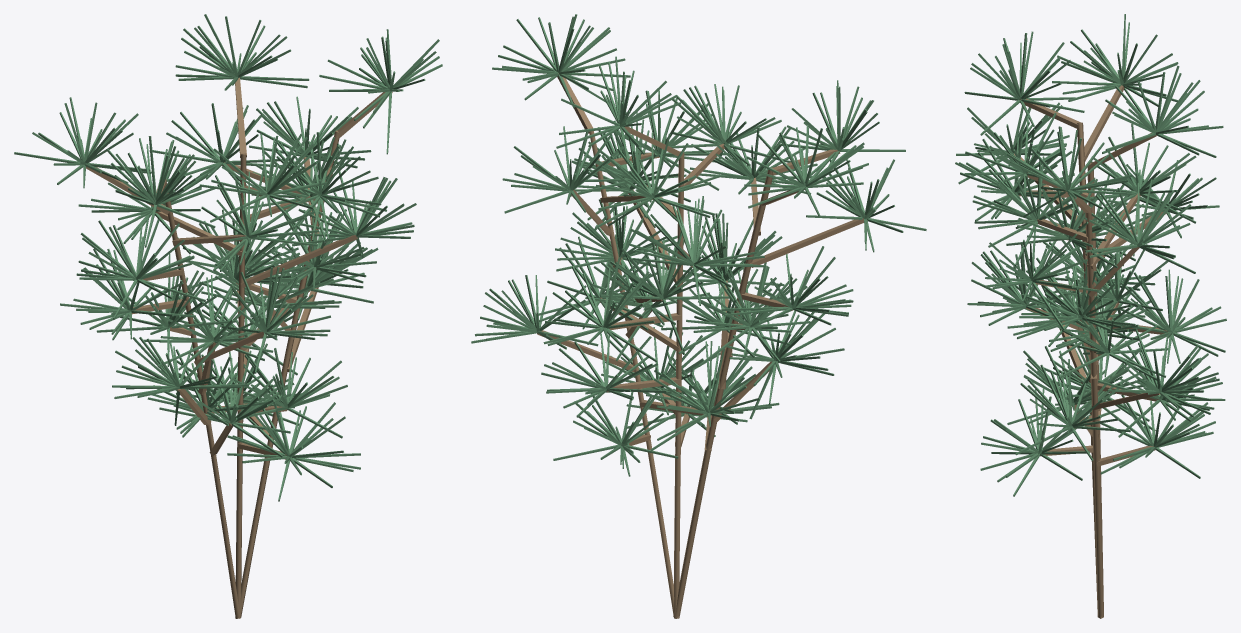
3 views of the same model, side by side, from view 1: azimuth 30°, elevation 25°; view 2: azimuth 150°, elevation 25°; view 3: azimuth 270°, elevation 25° (orthographic). The views are drawn at different scales.
Visible parts, largest first — view 1: n, st0; view 2: n, st0; view 3: n, st0.
Boxes of the visible parts, x1,y1,x2,y2 form: n: (14, 14, 442, 501); st0: (86, 77, 392, 618); n: (471, 14, 926, 476); st0: (537, 73, 863, 618); n: (955, 14, 1226, 496); st0: (1014, 85, 1167, 618).
Size of the model in its own units: 0.5401 by 0.7652 by 0.3391.
